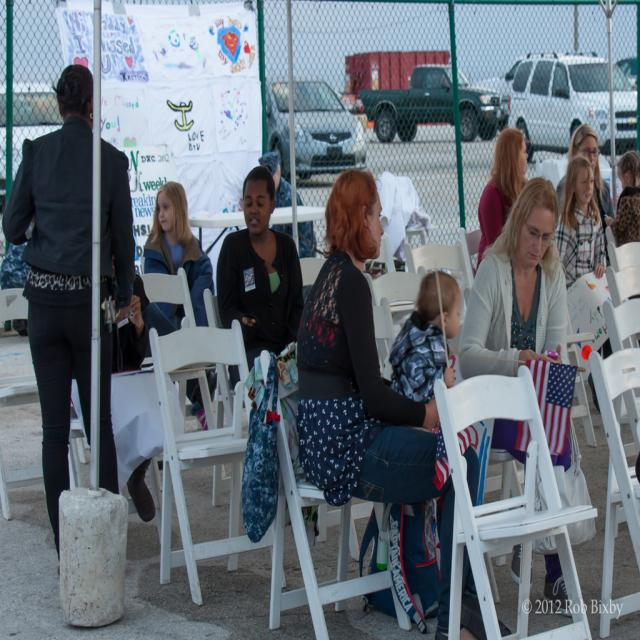Chair: (0, 223, 640, 640), (428, 334, 606, 640), (586, 346, 640, 640), (603, 300, 640, 477), (605, 263, 640, 375)
